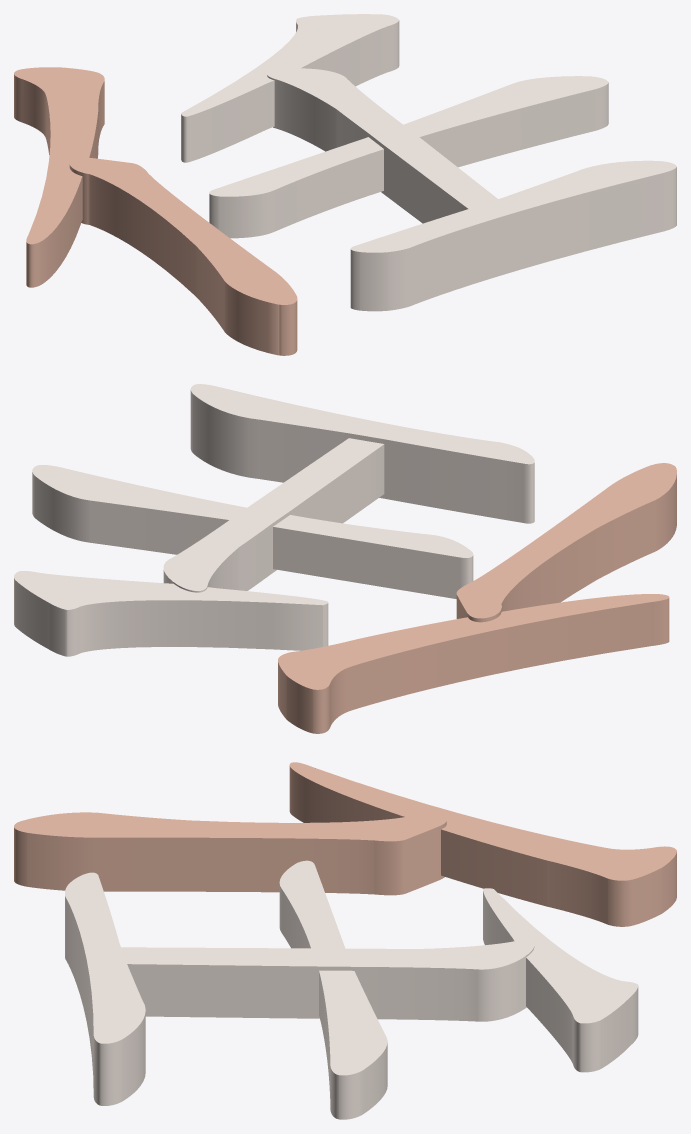
The model's file is hanzi32.fbx.
3 renders of one model, top to bottom at view 1: azimuth 30°, elevation 25°; view 2: azimuth 150°, elevation 25°; view 3: azimuth 270°, elevation 25°, orthographic. The views are drawn at different scales.
Visible parts, largest first — view 1: Curve.005, Curve.003, Curve.001, Curve.004, Curve.002, Curve; view 2: Curve, Curve.005, Curve.003, Curve.002, Curve.001, Curve.004; view 3: Curve.001, Curve.004, Curve, Curve.003, Curve.002, Curve.005.
Part boxes in pixels (left/top/right/bottom): Curve.005: left=350, top=160, right=676, bottom=311; Curve.003: left=209, top=76, right=608, bottom=238; Curve.001: left=69, top=157, right=297, bottom=355; Curve.004: left=267, top=68, right=497, bottom=223; Curve.002: left=181, top=14, right=399, bottom=162; Curve: left=14, top=67, right=104, bottom=287; Curve: left=278, top=594, right=669, bottom=733; Curve.005: left=190, top=384, right=534, bottom=523; Curve.003: left=32, top=465, right=473, bottom=598; Curve.002: left=14, top=571, right=328, bottom=656; Curve.001: left=456, top=463, right=676, bottom=622; Curve.004: left=163, top=438, right=384, bottom=592; Curve.001: left=14, top=812, right=446, bottom=895; Curve.004: left=121, top=940, right=534, bottom=1021; Curve: left=289, top=762, right=676, bottom=926; Curve.003: left=279, top=860, right=387, bottom=1119; Curve.002: left=483, top=888, right=638, bottom=1072; Curve.005: left=65, top=872, right=145, bottom=1105.
Size of the model in its own units: 25.27 by 22.68 by 2.35.
